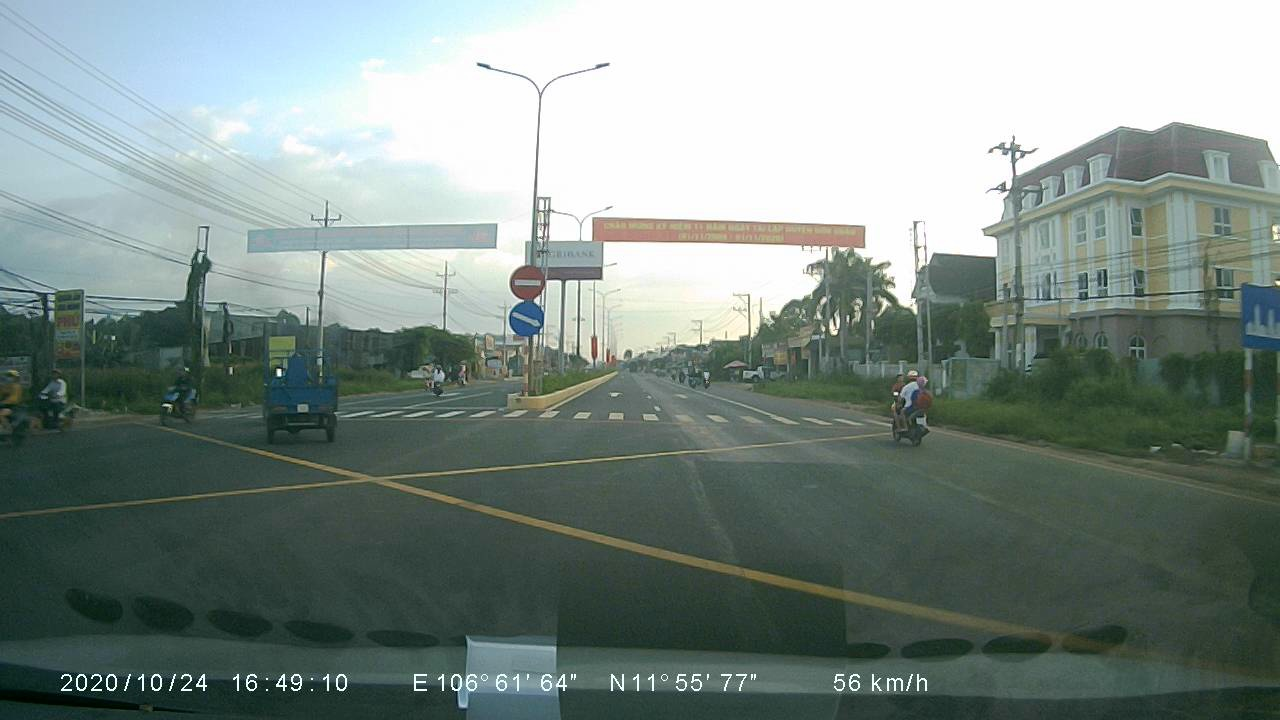Bien khac: (1237, 278, 1280, 351)
Cam di nguoc chieu: (506, 261, 548, 300)
Huong di phai re phai: (506, 301, 549, 335)
